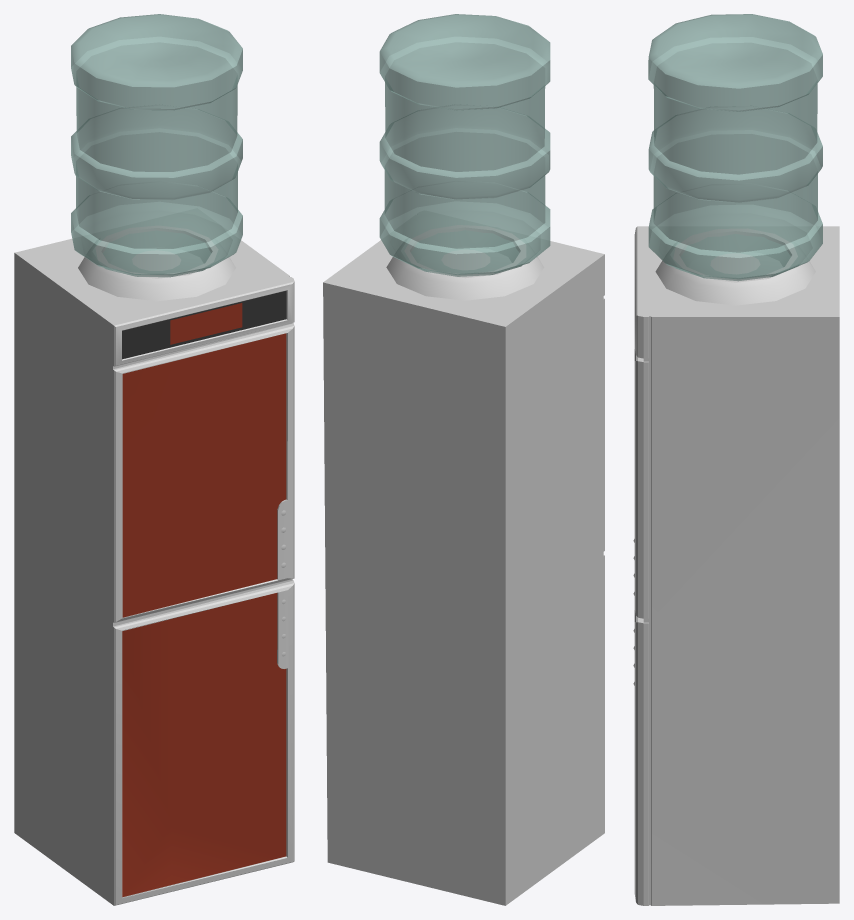
Rendered from MIDEAMYD929SX.FBX.
The picture shows the model from 3 angles, left to right: view 1: azimuth 30°, elevation 25°; view 2: azimuth 150°, elevation 25°; view 3: azimuth 270°, elevation 25°; orthographic projection.
Visible parts, largest first — view 1: MIDEAMYD929SX; view 2: MIDEAMYD929SX; view 3: MIDEAMYD929SX.
Part boxes in pixels (<box>): MIDEAMYD929SX: <box>14,14,294,905</box>; MIDEAMYD929SX: <box>323,14,604,905</box>; MIDEAMYD929SX: <box>633,14,839,905</box>.
Bounding box in the file's own units: 823 × 3442 × 792.
